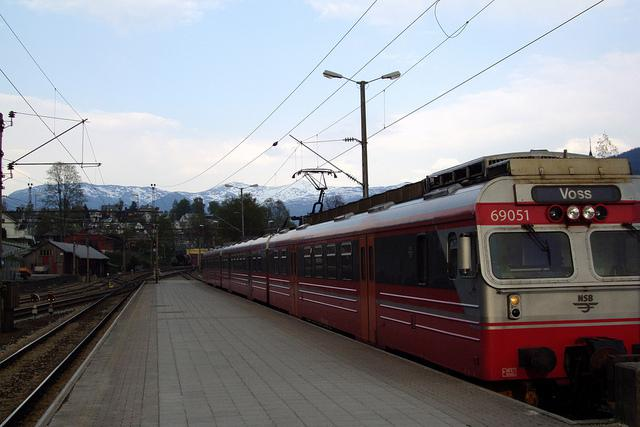Train: (192, 149, 640, 380)
